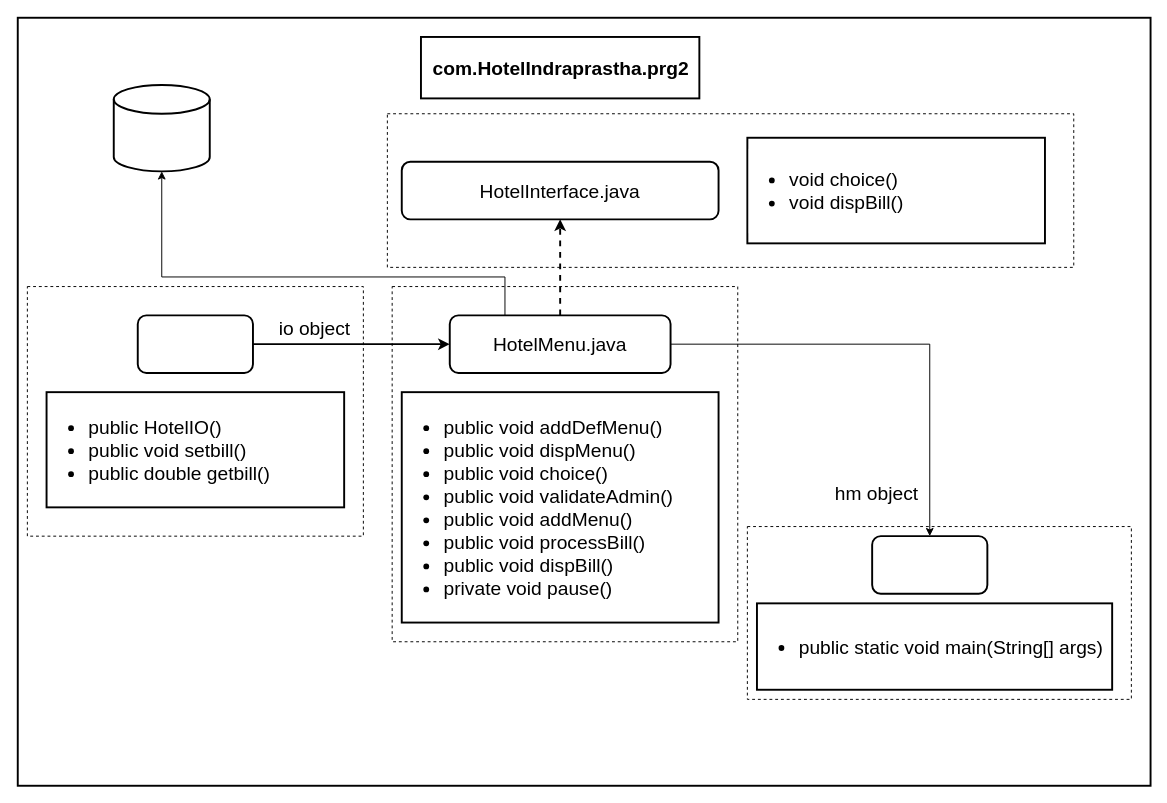
This 1167x803 diagram has some shape labels left out. Here are the shapes that lost their labels. From the top down, the centre of each, then its label:
At point 161,128: "LIBRARY_DB (hotel1)".
At point 194,343: "HotelIO.java".
At point 929,564: "Main.java".
